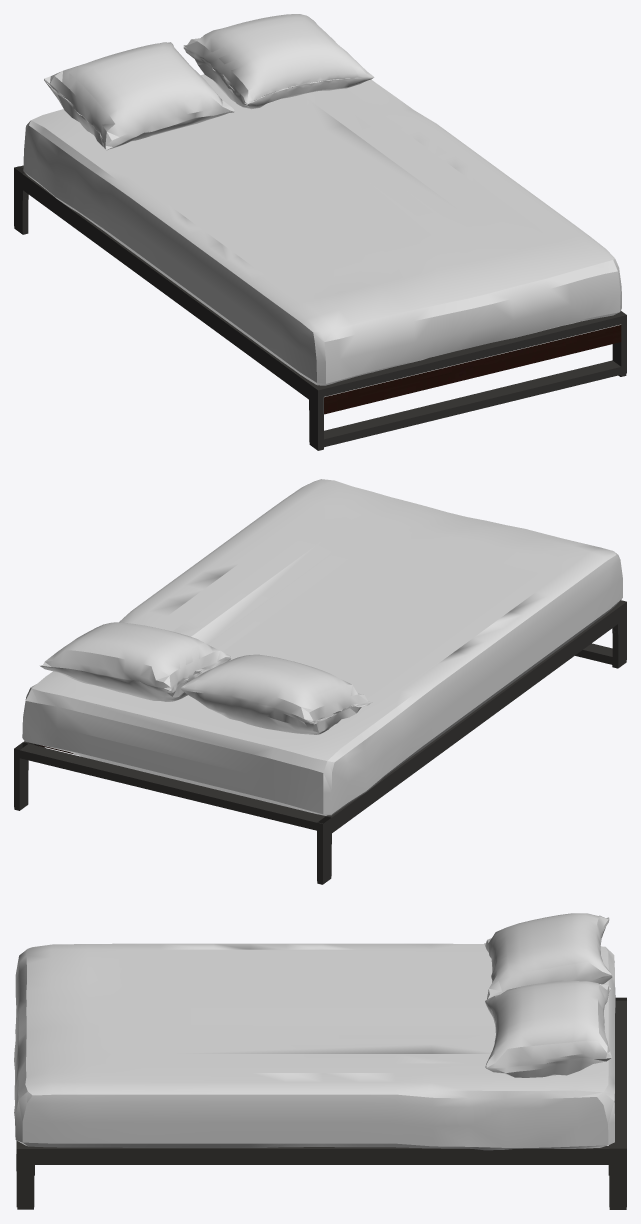
3 renders of one model, top to bottom at view 1: azimuth 30°, elevation 25°; view 2: azimuth 150°, elevation 25°; view 3: azimuth 270°, elevation 25°, orthographic.
Parts seen in each view (by area): view 1: C-skp3161; view 2: C-skp3161; view 3: C-skp3161.
Part boxes in pixels (left/top/right/bottom): C-skp3161: left=14, top=14, right=626, bottom=450; C-skp3161: left=14, top=479, right=626, bottom=884; C-skp3161: left=14, top=913, right=626, bottom=1209.
Bounding box in the file's own units: 1.22 × 0.6468 × 2.07.
3 materials, 1 textured.
